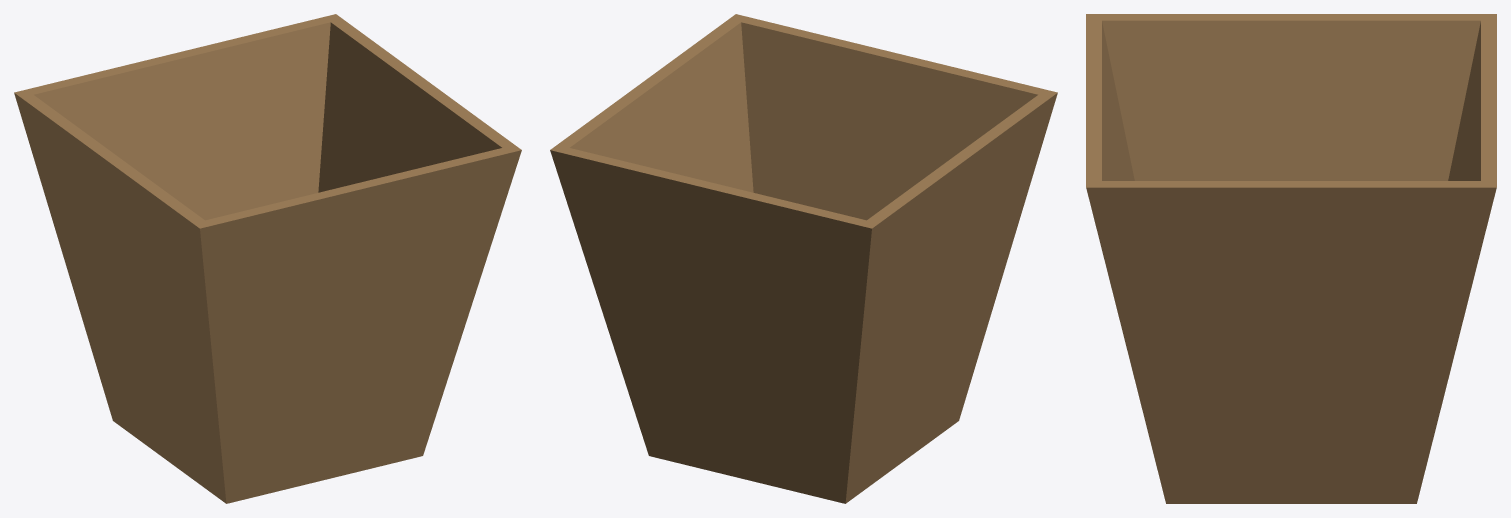
The model's file is rubbish bin2.fbx.
The picture shows the model from 3 angles, left to right: view 1: azimuth 30°, elevation 25°; view 2: azimuth 150°, elevation 25°; view 3: azimuth 270°, elevation 25°; orthographic projection. The views are drawn at different scales.
Parts seen in each view (by area): view 1: pCube190; view 2: pCube190; view 3: pCube190.
Boxes of the visible parts, x1,y1,x2,y2 form: pCube190: [14, 14, 521, 503]; pCube190: [550, 14, 1057, 503]; pCube190: [1086, 14, 1496, 503].
Size of the model in its own units: 1.64 by 1.54 by 1.64.
